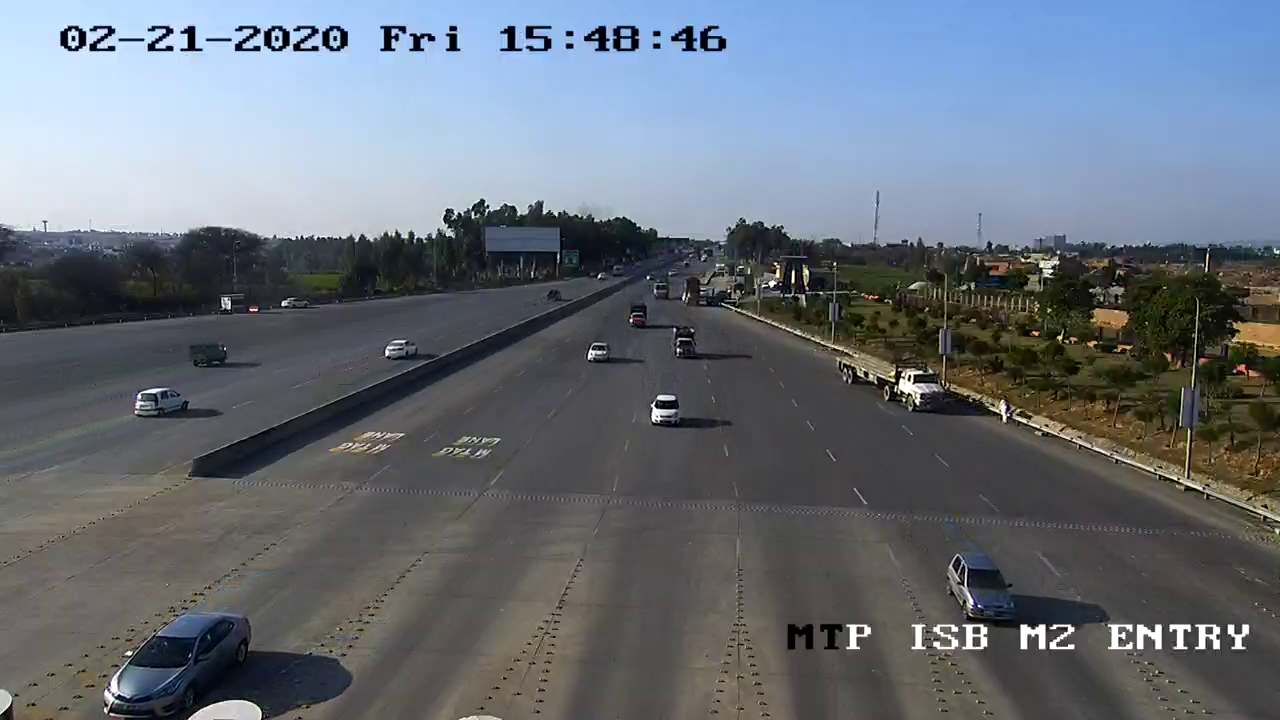f1: (89, 606, 262, 720), (935, 543, 1031, 628), (639, 381, 685, 434)
